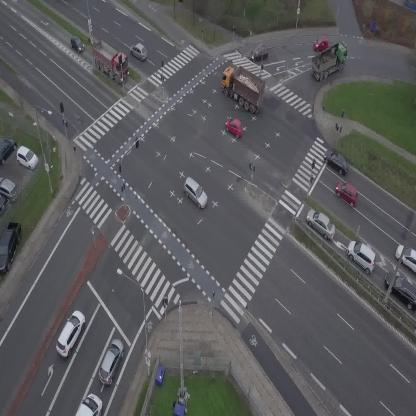car: (51, 308, 90, 358), (94, 336, 128, 387), (341, 236, 383, 275), (302, 205, 341, 242), (178, 175, 213, 210), (320, 147, 354, 177), (332, 178, 363, 207), (395, 245, 416, 276), (222, 115, 248, 139), (127, 40, 151, 64), (66, 33, 87, 55), (312, 35, 331, 52), (250, 46, 269, 61)
lorry: (212, 60, 273, 115), (83, 35, 137, 86), (305, 39, 356, 83), (75, 393, 102, 416)
